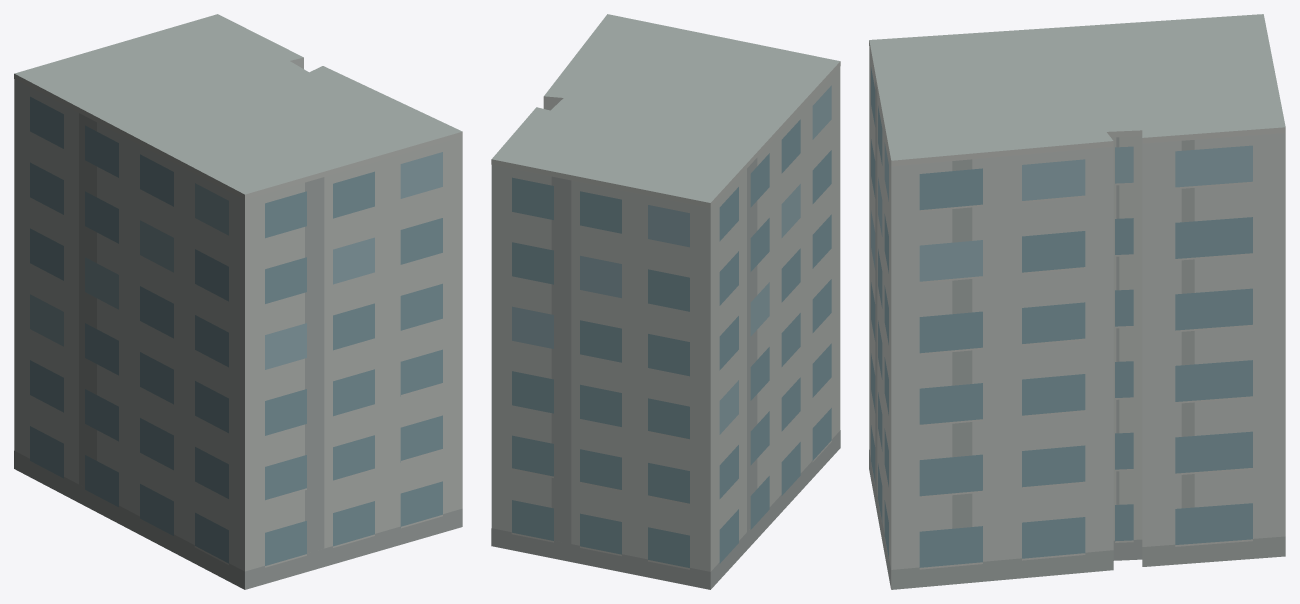
Rendered from survey-upis-32741580.glb.
The picture shows the model from 3 angles, left to right: view 1: azimuth 30°, elevation 25°; view 2: azimuth 150°, elevation 25°; view 3: azimuth 270°, elevation 25°; orthographic projection. The views are drawn at different scales.
Parts seen in each view (by area): view 1: survey-upis-32741580.tmp; view 2: survey-upis-32741580.tmp; view 3: survey-upis-32741580.tmp.
Boxes of the visible parts, x1=… form: survey-upis-32741580.tmp: x1=14, y1=14, x2=462, y2=589; survey-upis-32741580.tmp: x1=491, y1=14, x2=840, y2=589; survey-upis-32741580.tmp: x1=869, y1=14, x2=1285, y2=589.
Size of the model in its own units: 13.21 by 18 by 15.84.
